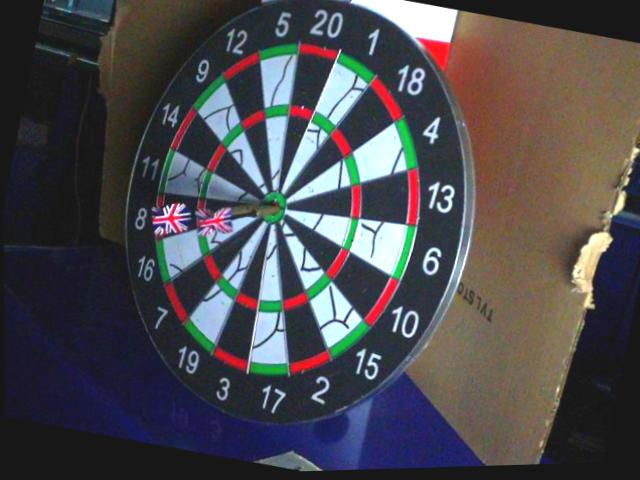bullseye: (264, 192, 285, 223)
